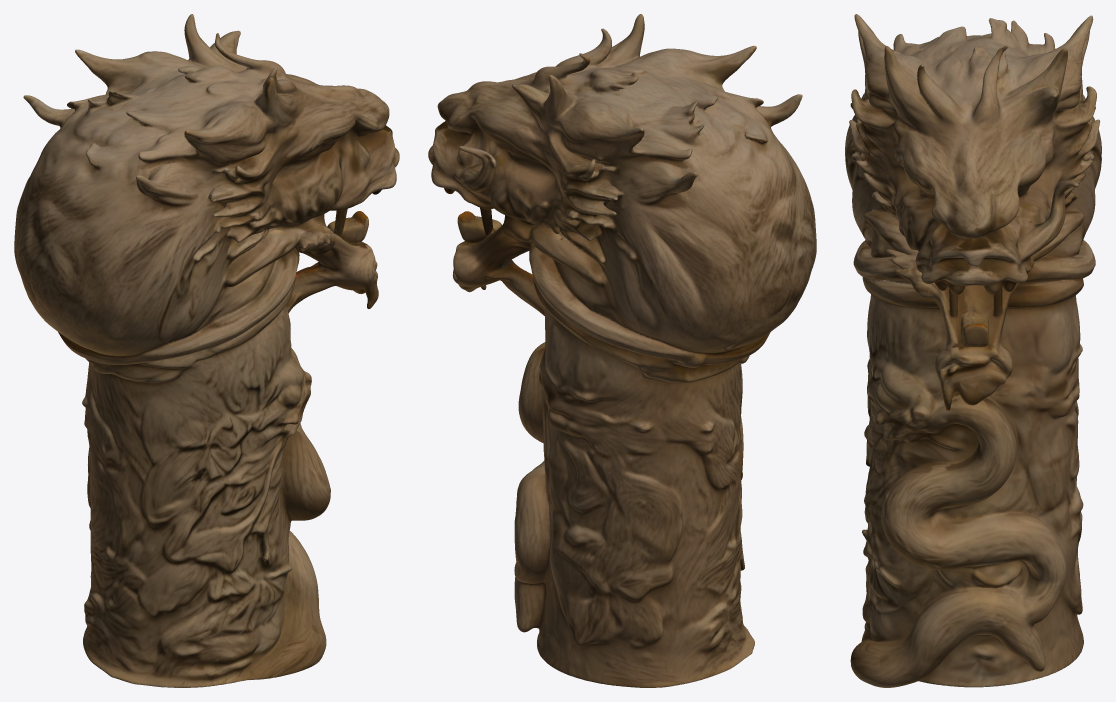
Rendered from Dragon_Pillar.fbx.
3 views of the same model, side by side, from view 1: azimuth 30°, elevation 25°; view 2: azimuth 150°, elevation 25°; view 3: azimuth 270°, elevation 25° (orthographic). The views are drawn at different scales.
Visible parts, largest first — view 1: tripo_node_991c94b6; view 2: tripo_node_991c94b6; view 3: tripo_node_991c94b6.
Part boxes in pixels (<box>): tripo_node_991c94b6: <box>14,14,399,687</box>; tripo_node_991c94b6: <box>428,14,816,687</box>; tripo_node_991c94b6: <box>845,14,1101,687</box>.
Size of the model in its own units: 64.11 by 100 by 37.59.
Materials: 1 (1 with a texture image).
